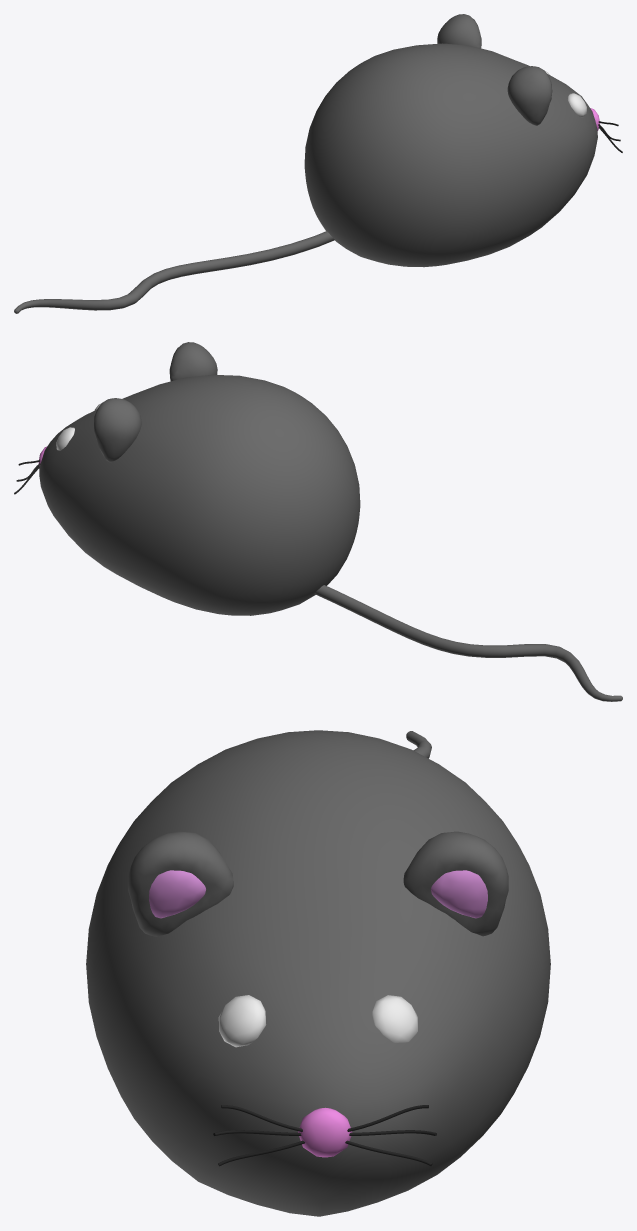
File: mouse.fbx
The picture shows the model from 3 angles, top to bottom: view 1: azimuth 30°, elevation 25°; view 2: azimuth 150°, elevation 25°; view 3: azimuth 270°, elevation 25°; orthographic projection. The views are drawn at different scales.
Visible parts, largest first — view 1: Icosphere, BezierCurve.003, Icosphere.004; view 2: Icosphere, BezierCurve.003, Icosphere.004; view 3: Icosphere, Icosphere.004, Icosphere.005, Icosphere.003, Icosphere.001, BezierCurve.001, BezierCurve, BezierCurve.002.
Part boxes in pixels (left/top/right/bottom): Icosphere: left=304, top=43, right=597, bottom=267; BezierCurve.003: left=14, top=231, right=334, bottom=313; Icosphere.004: left=437, top=14, right=552, bottom=125; Icosphere: left=39, top=374, right=360, bottom=615; BezierCurve.003: left=314, top=585, right=622, bottom=701; Icosphere.004: left=93, top=342, right=217, bottom=462; Icosphere: left=86, top=730, right=550, bottom=1216; Icosphere.004: left=128, top=831, right=508, bottom=936; Icosphere.005: left=149, top=870, right=487, bottom=918; Icosphere.003: left=218, top=995, right=417, bottom=1047; Icosphere.001: left=298, top=1107, right=352, bottom=1157; BezierCurve.001: left=218, top=1140, right=432, bottom=1166; BezierCurve: left=213, top=1130, right=436, bottom=1135; BezierCurve.002: left=221, top=1105, right=428, bottom=1131.
Bounding box in the file's own units: 558 × 179 × 200.
